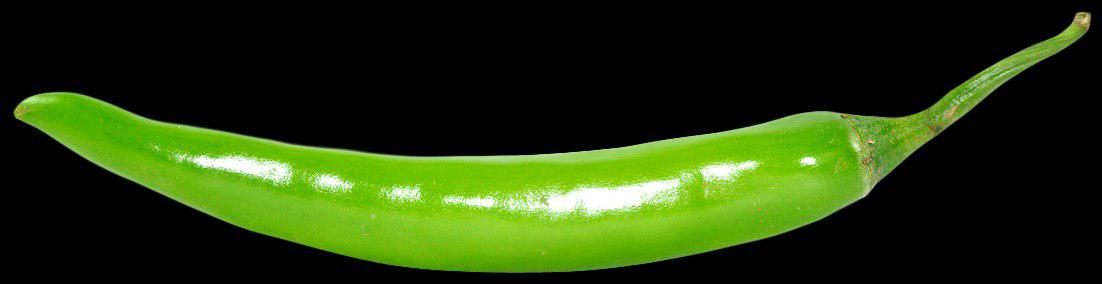lada hijau: (7, 46, 907, 270)
